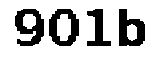0: (48, 7, 81, 48)
1: (83, 6, 114, 51)
9: (8, 6, 46, 50)
b: (116, 7, 152, 50)
